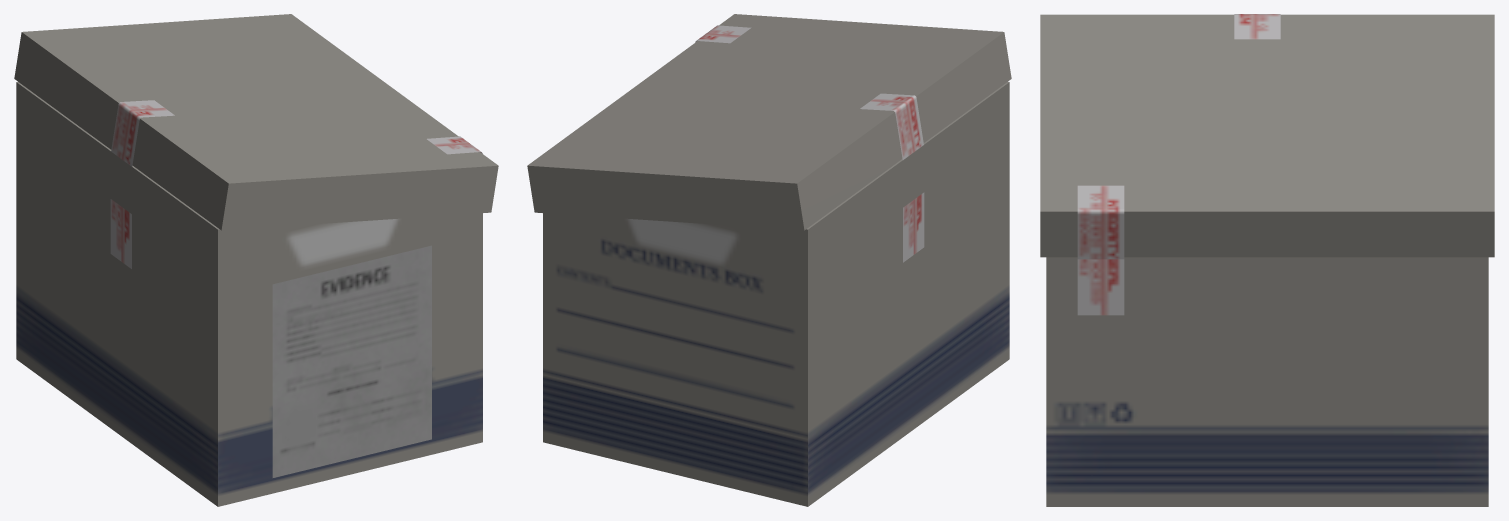
File: FBX_BoxPortableC.fbx
The picture shows the model from 3 angles, left to right: view 1: azimuth 30°, elevation 25°; view 2: azimuth 150°, elevation 25°; view 3: azimuth 270°, elevation 25°; orthographic projection. The views are drawn at different scales.
Visible parts, largest first — view 1: SM_BoxPortableC; view 2: SM_BoxPortableC; view 3: SM_BoxPortableC.
Part boxes in pixels (x1,y1,x2,y2): SM_BoxPortableC: [14, 14, 498, 506]; SM_BoxPortableC: [527, 14, 1011, 506]; SM_BoxPortableC: [1040, 14, 1494, 506].
Bounding box in the file's own units: 0.2872 × 0.3189 × 0.3692.
